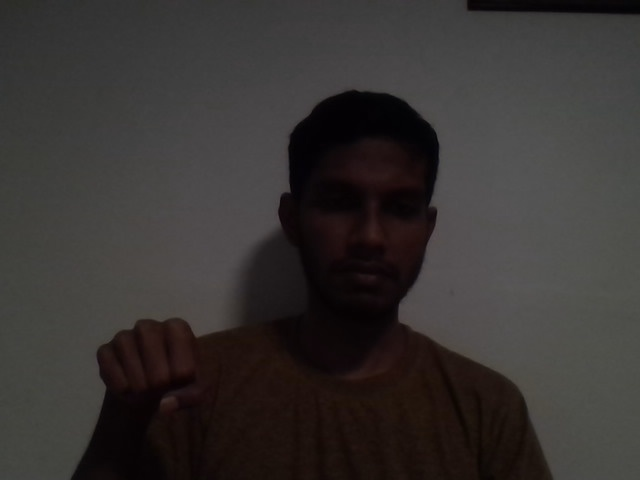yes: (70, 310, 252, 429)
